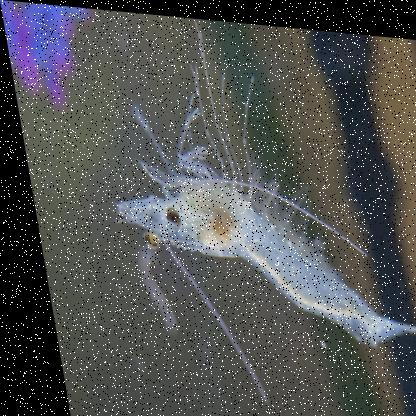shrimp: (101, 146, 415, 347)
